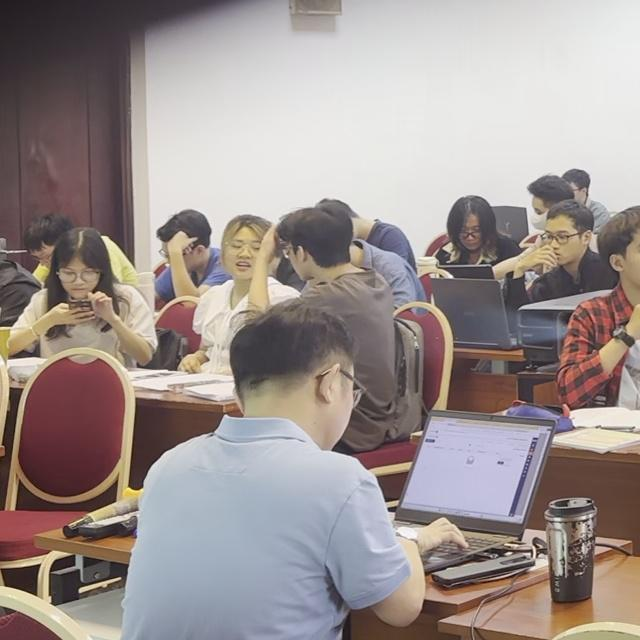Looking away: (589, 207, 640, 379), (420, 179, 522, 265), (267, 199, 345, 305), (2, 200, 74, 262), (511, 164, 570, 237), (220, 217, 278, 291), (551, 145, 605, 224), (526, 206, 590, 265), (320, 189, 378, 243), (164, 217, 217, 259)
Phone use: (24, 235, 169, 379)
